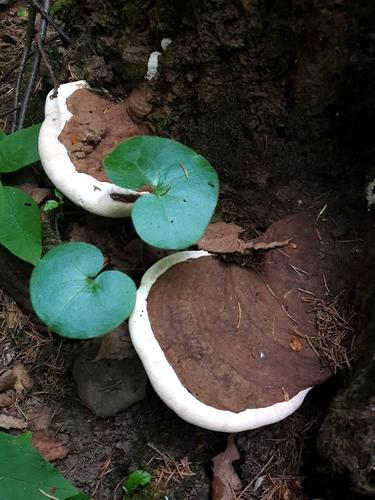Ganoderma - Fruit Body: (124, 246, 324, 436), (35, 82, 191, 222)
